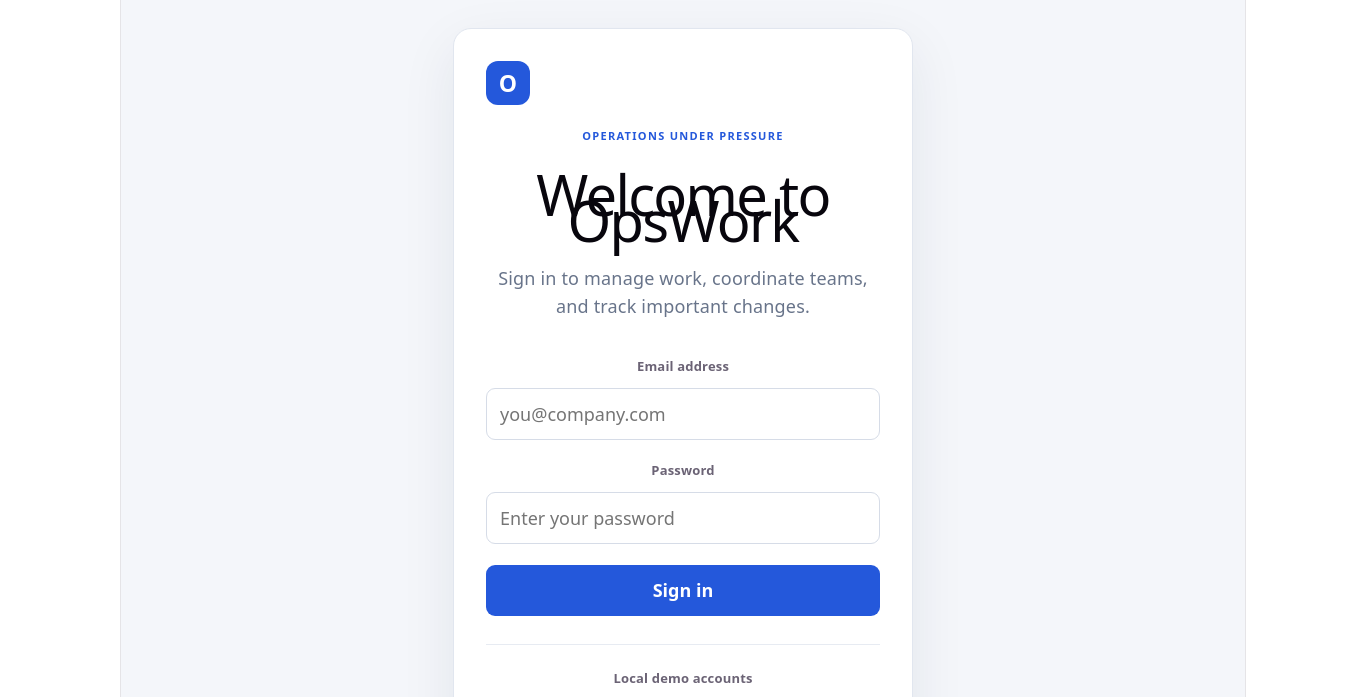
LoginPage › shows the authentication error after a failed login
Type "person@example.test" into the field labelled "Email address" at [683, 414], box [486, 388, 880, 440]
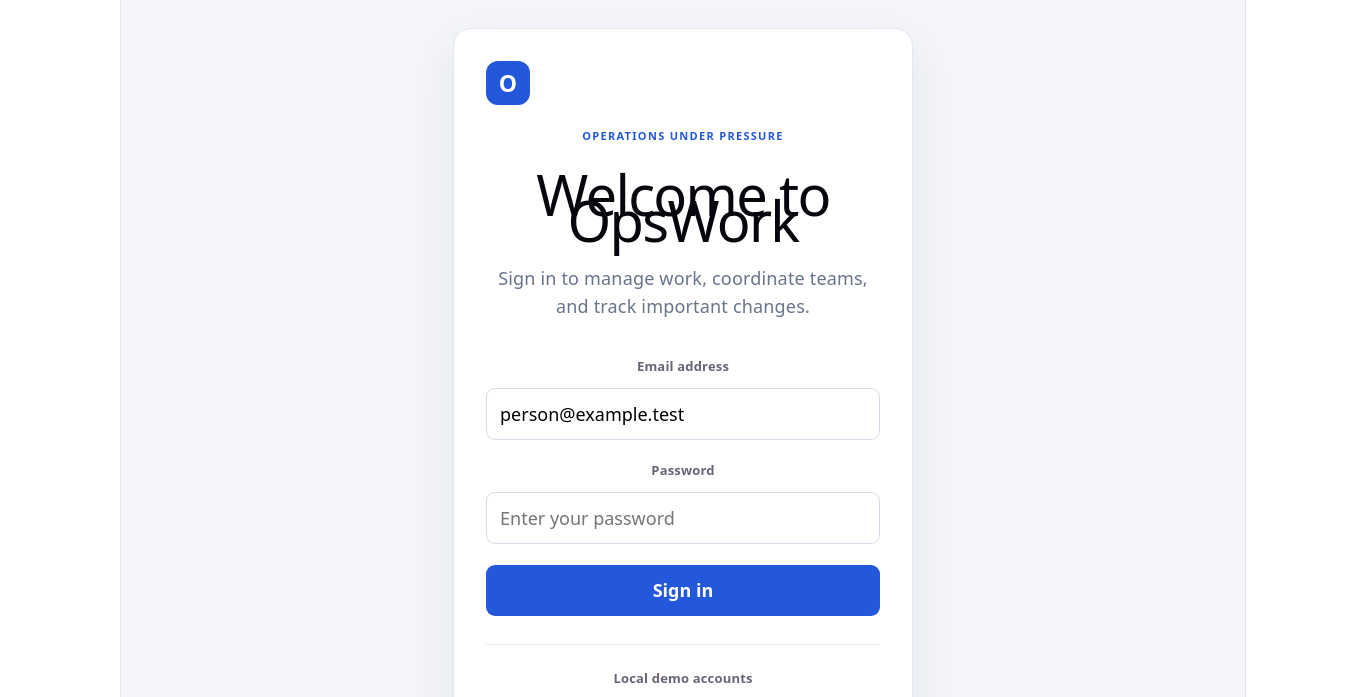
Type "bad-password" into the password field labelled "Password" at [683, 518], box [486, 492, 880, 544]
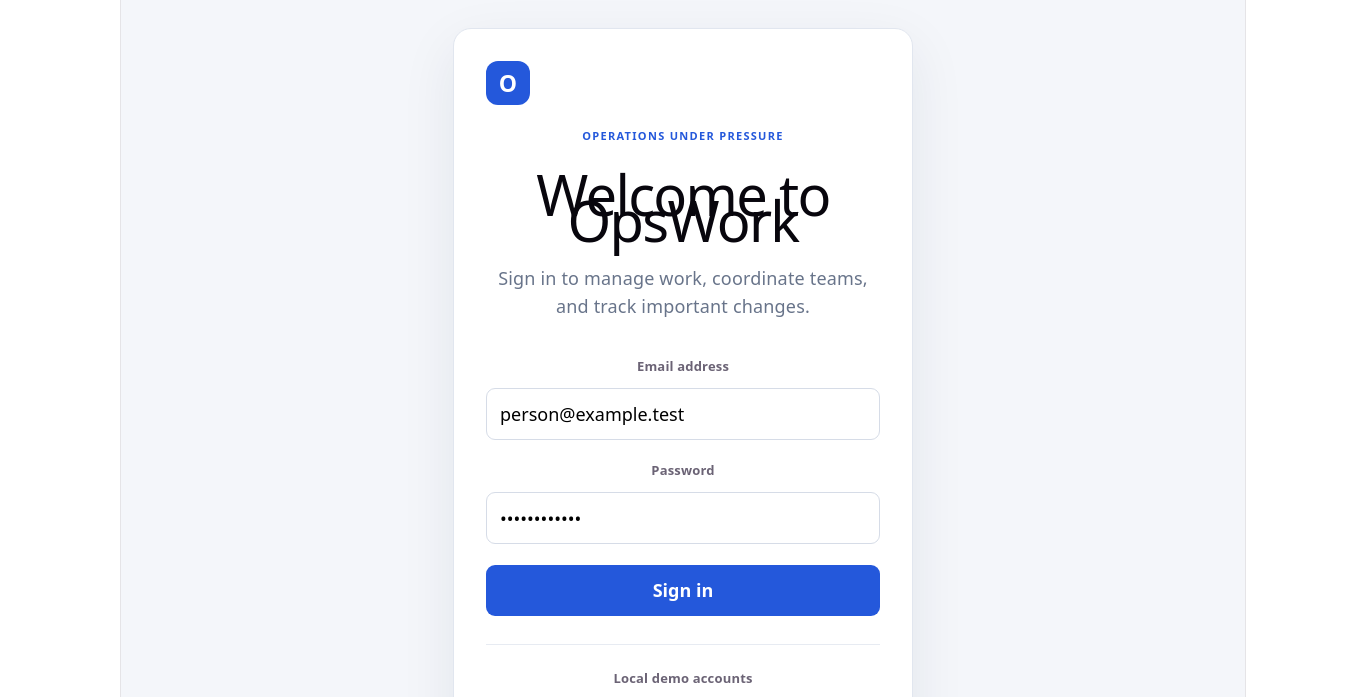
Click the button "Sign in" at [683, 590], box [486, 565, 880, 616]
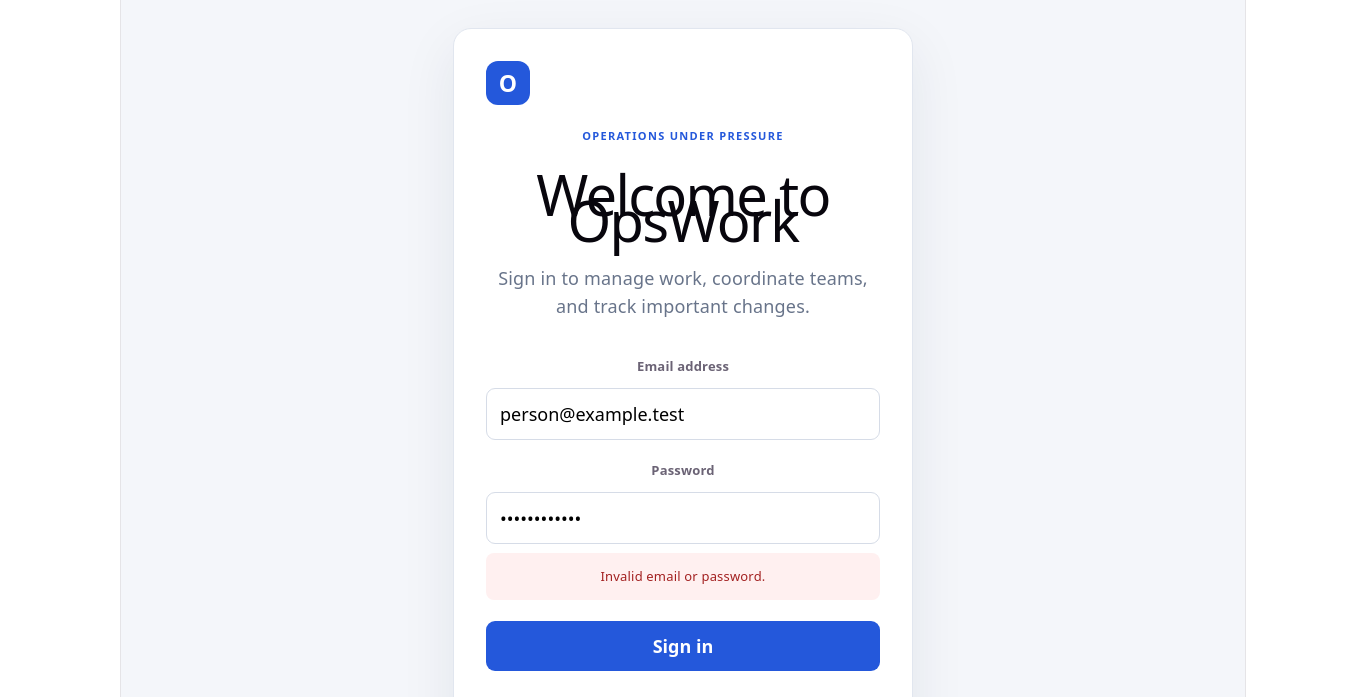
Expected: the message reads "Invalid email or password.", [600, 567, 766, 585]
